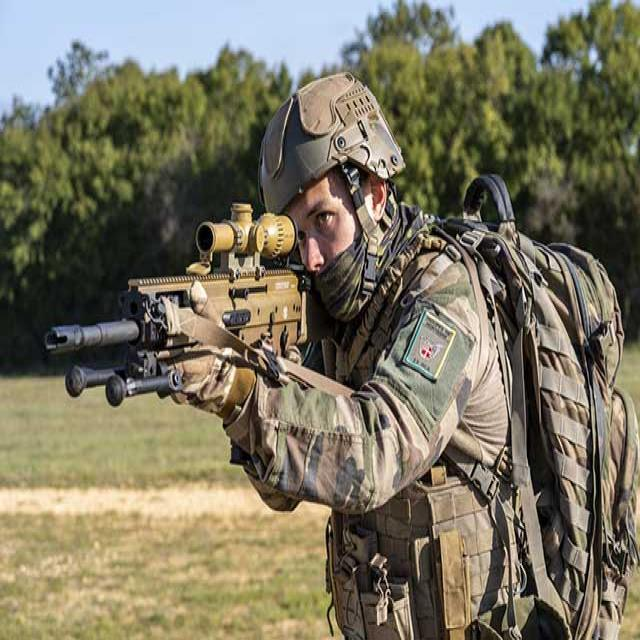rifle: (39, 212, 306, 429)
